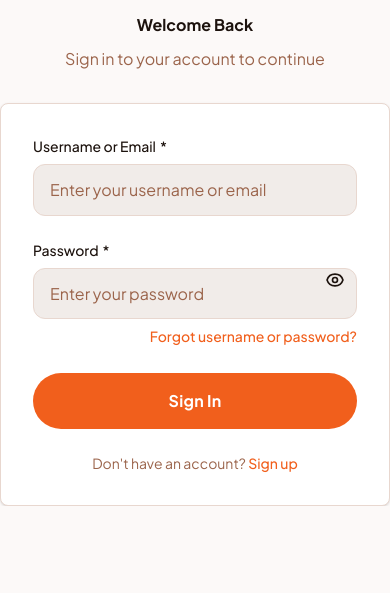
Test: LoginPage › displays error message on login failure
In the field with placeholder "Enter your username or email": point(195, 190) left=33, top=164, right=357, bottom=216, type "testuser"
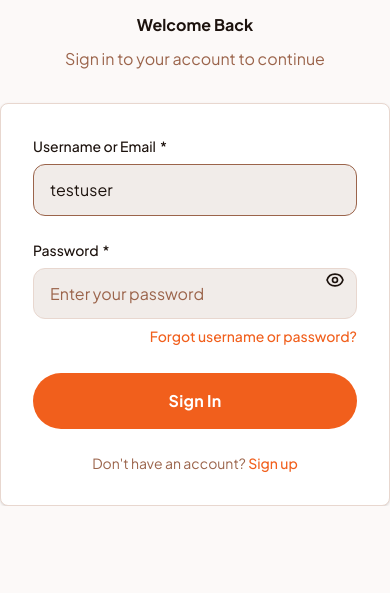
In the password field with placeholder "Enter your password": point(195, 294) left=33, top=268, right=357, bottom=319, type "wrongpassword"
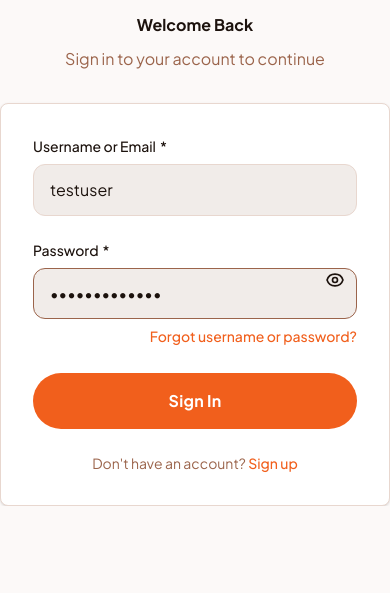
Click the button "Sign In": point(195, 401) left=33, top=373, right=357, bottom=429
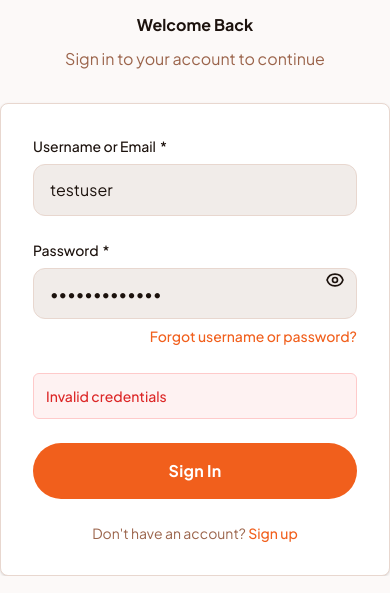
Expected: the text "Invalid credentials" is shown, left=46, top=387, right=167, bottom=405
